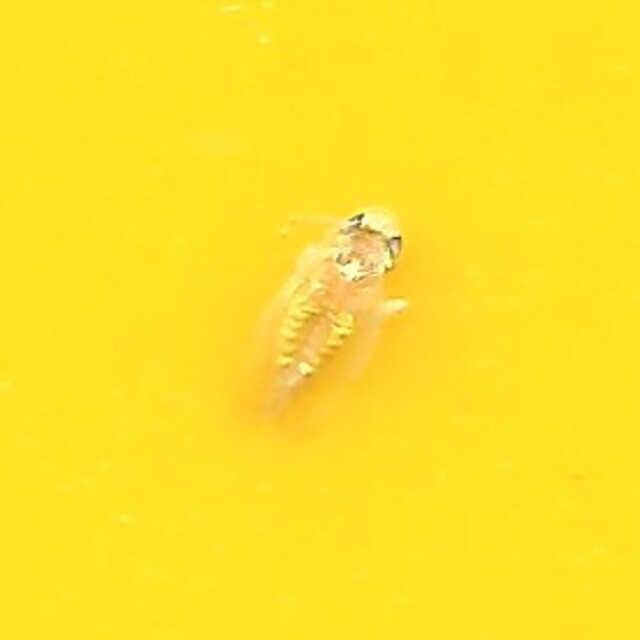Hemiptera: (232, 204, 408, 436)
